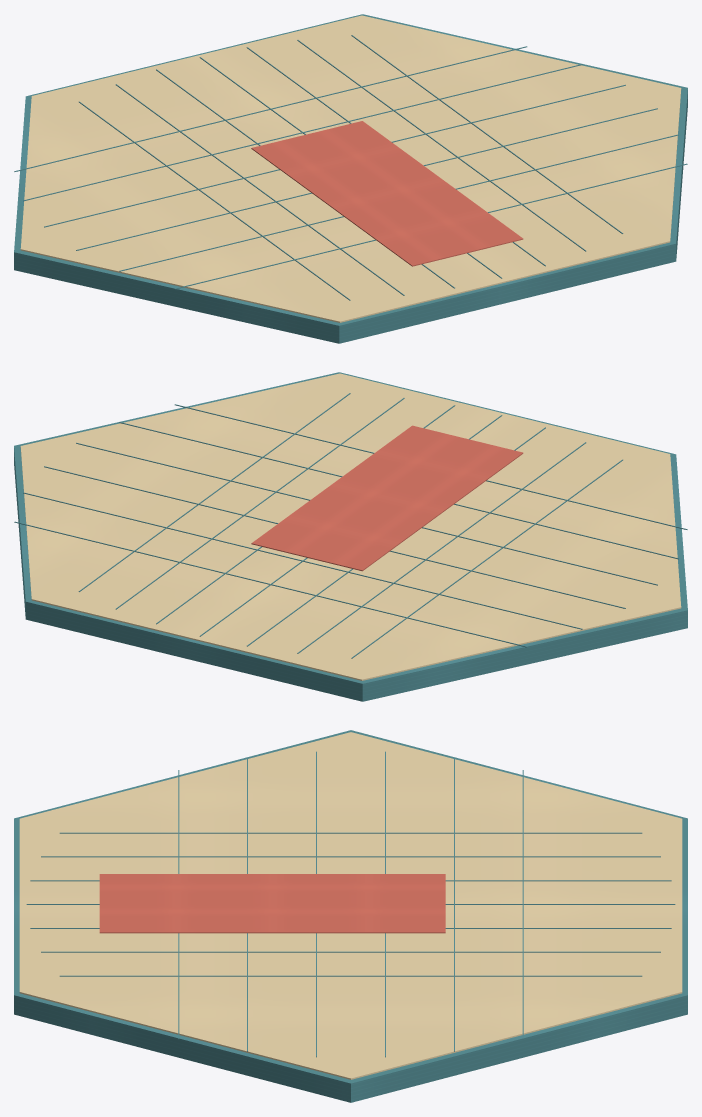
The model's file is atlas100-s073-a07.lod2.glb.
3 renders of one model, top to bottom at view 1: azimuth 30°, elevation 25°; view 2: azimuth 150°, elevation 25°; view 3: azimuth 270°, elevation 25°, orthographic. The views are drawn at different scales.
Visible parts, largest first — view 1: atlas100-s073-a07:part-001, atlas100-s073-a07:part-000, atlas100-s073-a07:part-021, atlas100-s073-a07:part-015, atlas100-s073-a07:part-014, atlas100-s073-a07:part-016, atlas100-s073-a07:part-017, atlas100-s073-a07:part-018, atlas100-s073-a07:part-019, atlas100-s073-a07:part-009, atlas100-s073-a07:part-005, atlas100-s073-a07:part-004 (+1 smaller); view 2: atlas100-s073-a07:part-001, atlas100-s073-a07:part-000, atlas100-s073-a07:part-021, atlas100-s073-a07:part-015, atlas100-s073-a07:part-014, atlas100-s073-a07:part-017, atlas100-s073-a07:part-016, atlas100-s073-a07:part-018, atlas100-s073-a07:part-019, atlas100-s073-a07:part-009, atlas100-s073-a07:part-005, atlas100-s073-a07:part-004 (+1 smaller); view 3: atlas100-s073-a07:part-001, atlas100-s073-a07:part-021, atlas100-s073-a07:part-000, atlas100-s073-a07:part-005, atlas100-s073-a07:part-009, atlas100-s073-a07:part-004, atlas100-s073-a07:part-010, atlas100-s073-a07:part-006.
Part boxes in pixels (x1,y1,x2,y2): atlas100-s073-a07:part-001: [20, 15, 681, 322]; atlas100-s073-a07:part-000: [14, 14, 687, 343]; atlas100-s073-a07:part-021: [251, 121, 523, 266]; atlas100-s073-a07:part-015: [23, 64, 582, 201]; atlas100-s073-a07:part-014: [14, 46, 527, 171]; atlas100-s073-a07:part-016: [44, 84, 625, 227]; atlas100-s073-a07:part-017: [76, 108, 657, 250]; atlas100-s073-a07:part-018: [119, 134, 678, 271]; atlas100-s073-a07:part-019: [175, 163, 687, 289]; atlas100-s073-a07:part-009: [297, 40, 586, 251]; atlas100-s073-a07:part-005: [115, 84, 404, 295]; atlas100-s073-a07:part-004: [79, 101, 350, 300]; atlas100-s073-a07:part-001: [20, 373, 681, 680]; atlas100-s073-a07:part-000: [14, 372, 687, 701]; atlas100-s073-a07:part-021: [251, 425, 523, 571]; atlas100-s073-a07:part-015: [23, 492, 582, 629]; atlas100-s073-a07:part-014: [14, 521, 526, 647]; atlas100-s073-a07:part-017: [76, 442, 657, 585]; atlas100-s073-a07:part-016: [44, 466, 625, 608]; atlas100-s073-a07:part-018: [119, 422, 678, 559]; atlas100-s073-a07:part-019: [174, 404, 687, 529]; atlas100-s073-a07:part-009: [115, 398, 404, 609]; atlas100-s073-a07:part-005: [297, 442, 586, 653]; atlas100-s073-a07:part-004: [351, 459, 622, 658]; atlas100-s073-a07:part-001: [19, 732, 682, 1079]; atlas100-s073-a07:part-021: [99, 874, 445, 933]; atlas100-s073-a07:part-000: [14, 730, 687, 1102]; atlas100-s073-a07:part-005: [41, 856, 660, 857]; atlas100-s073-a07:part-009: [41, 951, 660, 952]; atlas100-s073-a07:part-004: [59, 832, 642, 833]; atlas100-s073-a07:part-010: [59, 975, 642, 976]; atlas100-s073-a07:part-006: [30, 880, 671, 881].
Size of the model in its own units: 13.35 by 0.404 by 10.76.
3 materials, 3 textured.
